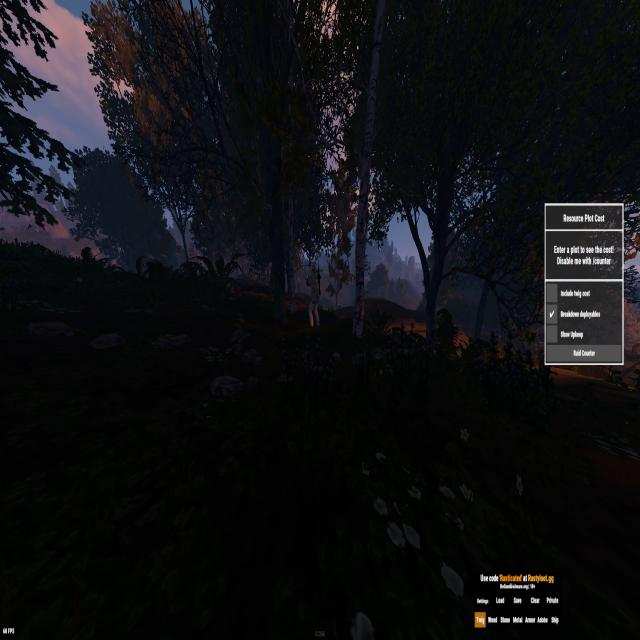Player: (305, 264, 321, 326)
